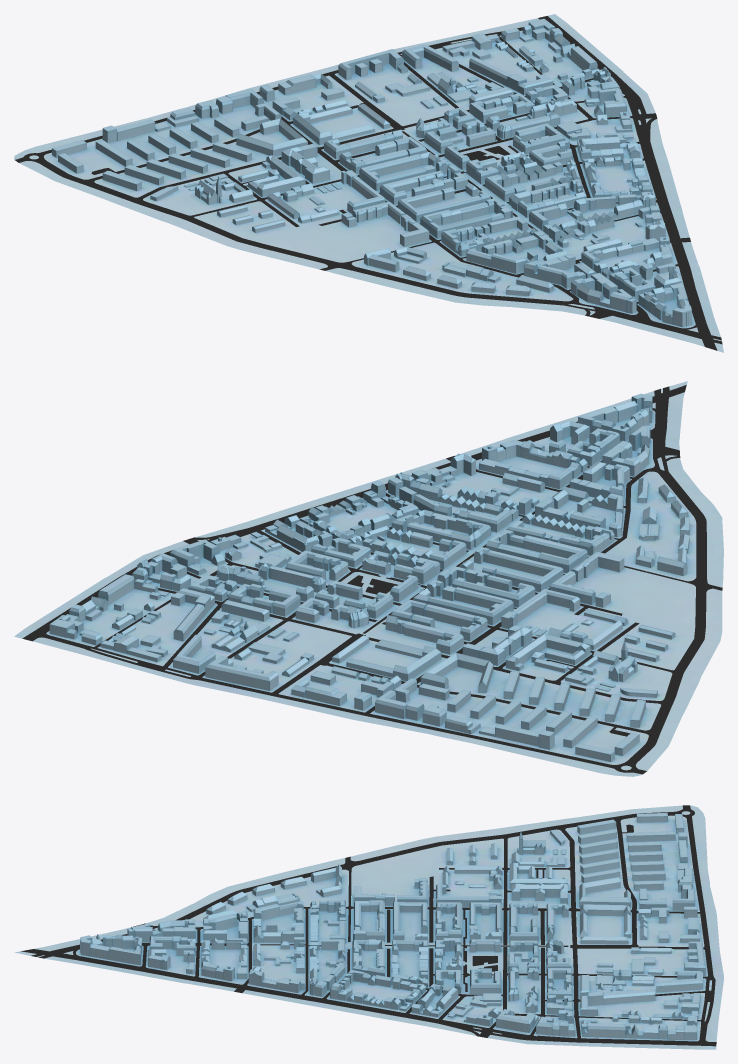
File: Bremerhaven_250731_github.gltf
3 views of the same model, one above another, from view 1: azimuth 30°, elevation 25°; view 2: azimuth 150°, elevation 25°; view 3: azimuth 270°, elevation 25° (orthographic). The views are drawn at different scales.
Visible parts, largest first — view 1: Terrain, Streets, Cube.012, Cube.071, Cube.001, 10x12.019, Cube.107, Cube.091, Cube.115, 10x12.004, Cube.130, 10x12.075 (+7 smaller); view 2: Terrain, Streets, Cube.001, 10x12.019, Cube.012, Cube.115, Cube.071, Cube.091, Cube.107, 10x12.004, 10x12.076, 10x12.011 (+11 smaller); view 3: Terrain, Streets, Cube.115, Cube.107, Cube.071, Cube.130, 10x12.004, 10x12.019, 10x12.076, Cube.012, Cube.072, Cube.001 (+11 smaller).
Boxes of the visible parts, x1=… form: Terrain: x1=14, y1=14, x2=723, y2=352; Streets: x1=15, y1=16, x2=722, y2=350; Cube.012: x1=359, y1=154, x2=426, y2=190; Cube.071: x1=236, y1=118, x2=307, y2=156; Cube.001: x1=398, y1=190, x2=481, y2=222; 10x12.019: x1=248, y1=155, x2=305, y2=197; Cube.107: x1=469, y1=57, x2=553, y2=94; Cube.091: x1=338, y1=49, x2=403, y2=79; Cube.115: x1=548, y1=28, x2=599, y2=79; 10x12.004: x1=281, y1=147, x2=329, y2=183; Cube.130: x1=402, y1=44, x2=458, y2=71; 10x12.075: x1=515, y1=123, x2=564, y2=150; Terrain: x1=14, y1=381, x2=723, y2=776; Streets: x1=22, y1=385, x2=722, y2=774; Cube.001: x1=487, y1=550, x2=563, y2=592; 10x12.019: x1=506, y1=633, x2=590, y2=670; Cube.012: x1=427, y1=587, x2=513, y2=625; Cube.115: x1=69, y1=574, x2=158, y2=621; Cube.071: x1=420, y1=652, x2=493, y2=692; Cube.091: x1=205, y1=656, x2=278, y2=690; Cube.107: x1=171, y1=588, x2=214, y2=641; 10x12.004: x1=479, y1=625, x2=532, y2=665; 10x12.076: x1=170, y1=539, x2=219, y2=575; 10x12.011: x1=512, y1=589, x2=580, y2=622; Terrain: x1=14, y1=805, x2=723, y2=1049; Streets: x1=21, y1=805, x2=716, y2=1046; Cube.115: x1=581, y1=1020, x2=667, y2=1039; Cube.107: x1=580, y1=989, x2=655, y2=1015; Cube.071: x1=579, y1=877, x2=630, y2=907; Cube.130: x1=656, y1=970, x2=702, y2=992; 10x12.004: x1=511, y1=882, x2=567, y2=900; 10x12.019: x1=509, y1=863, x2=567, y2=889; 10x12.076: x1=496, y1=1009, x2=538, y2=1032; Cube.012: x1=469, y1=902, x2=501, y2=930; Cube.072: x1=580, y1=904, x2=630, y2=916; Cube.001: x1=393, y1=902, x2=427, y2=930.
Size of the model in its own units: 930 by 42.41 by 1143.
